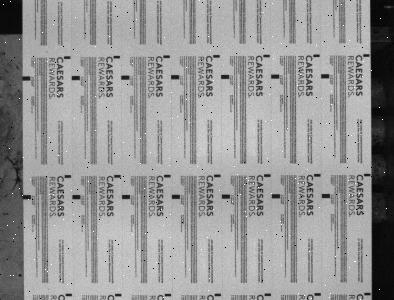qblock: (121, 74, 130, 79), (321, 73, 330, 78), (271, 73, 280, 78), (72, 194, 81, 199), (272, 193, 281, 198), (322, 193, 331, 198), (122, 194, 130, 199), (22, 75, 30, 80), (221, 74, 230, 78), (222, 194, 231, 198), (22, 195, 31, 199), (72, 75, 80, 79), (171, 74, 179, 78), (172, 194, 180, 198)
smallqblock: (114, 174, 121, 178), (164, 174, 171, 178), (164, 54, 170, 58), (215, 293, 222, 296), (165, 293, 172, 296), (265, 293, 272, 296), (115, 293, 122, 296), (365, 292, 372, 295), (264, 54, 271, 57), (214, 174, 221, 177), (64, 55, 70, 58), (214, 54, 220, 57), (265, 174, 271, 177), (66, 293, 72, 296), (315, 292, 321, 295), (114, 55, 120, 58), (364, 53, 370, 56), (315, 174, 321, 177), (365, 173, 371, 176), (65, 175, 71, 178), (314, 54, 320, 56)
